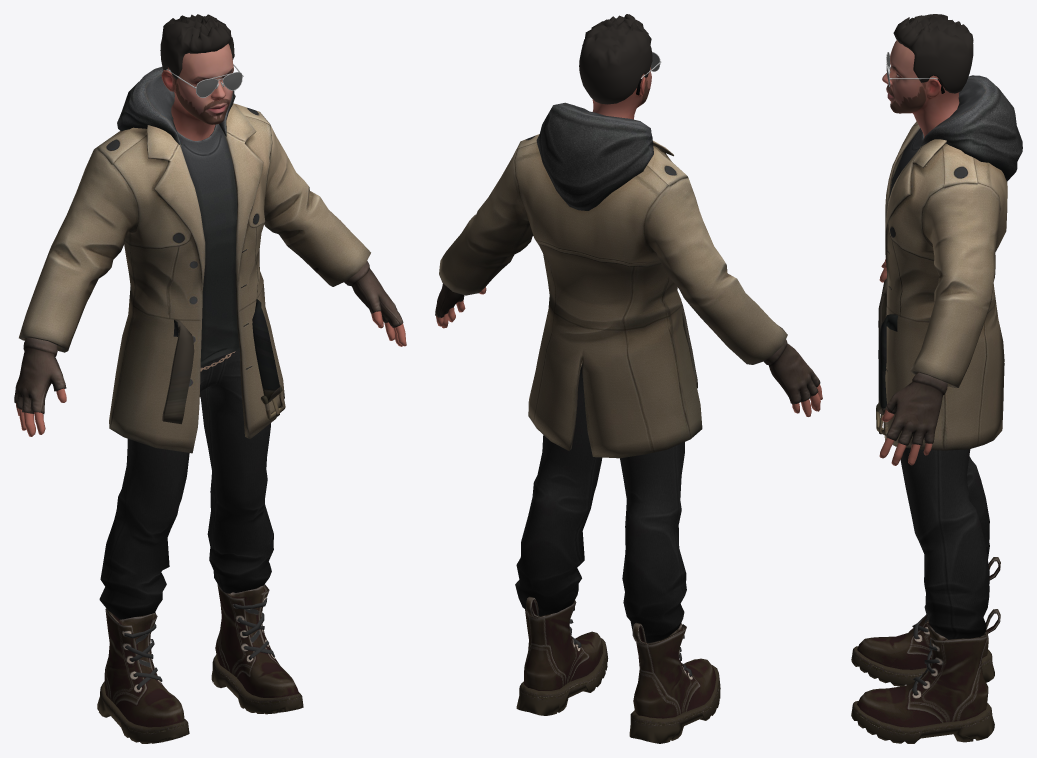
Rendered from 4cb4eabb-dda2-48be-a3d5-bf2ba2ec5db5.fbx.
3 renders of one model, left to right at view 1: azimuth 30°, elevation 25°; view 2: azimuth 150°, elevation 25°; view 3: azimuth 270°, elevation 25°, orthographic.
Visible parts, largest first — view 1: Wolf3D_Outfit_Top, Wolf3D_Outfit_Bottom, Wolf3D_Outfit_Footwear, Wolf3D_Head, Wolf3D_Hair, Wolf3D_Body, Wolf3D_Glasses; view 2: Wolf3D_Outfit_Top, Wolf3D_Outfit_Bottom, Wolf3D_Outfit_Footwear, Wolf3D_Hair, Wolf3D_Head, Wolf3D_Body; view 3: Wolf3D_Outfit_Top, Wolf3D_Outfit_Footwear, Wolf3D_Outfit_Bottom, Wolf3D_Hair, Wolf3D_Head, Wolf3D_Body.
Boxes of the visible parts, <box> form: Wolf3D_Outfit_Top: <box>14,67,403,453</box>; Wolf3D_Outfit_Bottom: <box>99,350,273,619</box>; Wolf3D_Outfit_Footwear: <box>97,584,303,743</box>; Wolf3D_Head: <box>161,43,233,140</box>; Wolf3D_Hair: <box>160,14,234,79</box>; Wolf3D_Body: <box>16,311,406,436</box>; Wolf3D_Glasses: <box>165,64,243,97</box>; Wolf3D_Outfit_Top: <box>435,102,820,458</box>; Wolf3D_Outfit_Bottom: <box>515,365,686,642</box>; Wolf3D_Outfit_Footwear: <box>516,596,720,743</box>; Wolf3D_Hair: <box>579,14,652,104</box>; Wolf3D_Head: <box>592,65,651,119</box>; Wolf3D_Body: <box>436,287,822,416</box>; Wolf3D_Outfit_Top: <box>876,75,1022,450</box>; Wolf3D_Outfit_Footwear: <box>851,557,1000,743</box>; Wolf3D_Outfit_Bottom: <box>900,448,989,639</box>; Wolf3D_Hair: <box>893,14,973,93</box>; Wolf3D_Head: <box>882,40,959,138</box>; Wolf3D_Body: <box>879,259,932,465</box>.
Size of the model in its own units: 1.06 by 1.86 by 0.4217.
Materials: 9 (9 with a texture image).
